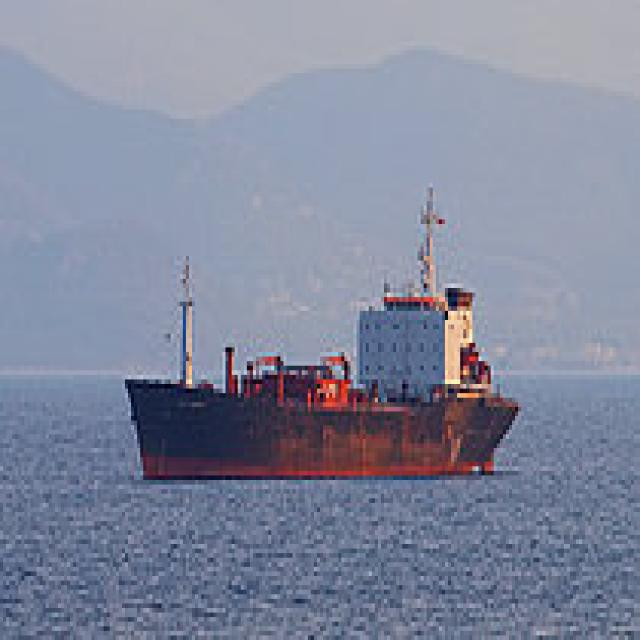Tanker: (122, 187, 518, 471)
